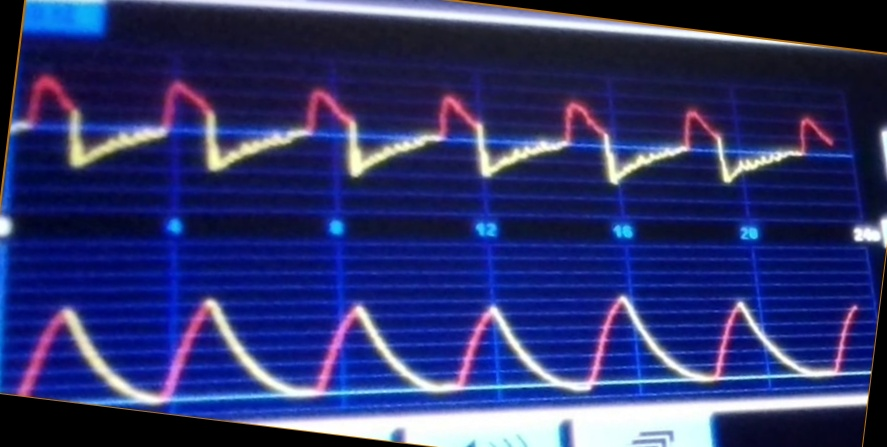Accumulation Flow: (18, 70, 832, 204)
Volume: (19, 293, 861, 405)
